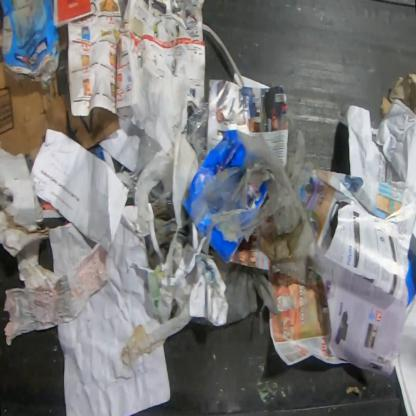cardboard: (0, 25, 121, 164), (0, 0, 61, 91), (0, 148, 45, 232), (380, 72, 415, 118)
soft_plastic: (181, 128, 318, 285), (210, 250, 284, 336), (115, 133, 174, 235), (148, 263, 197, 343), (181, 100, 218, 168)
